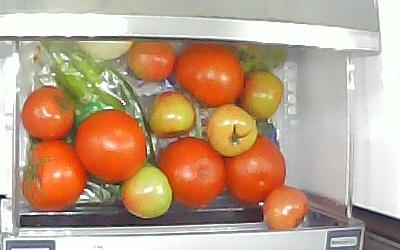tomato: (76, 108, 147, 184), (159, 138, 227, 207), (21, 140, 86, 212), (224, 133, 286, 206), (176, 43, 244, 106), (22, 86, 76, 141), (206, 104, 260, 157), (120, 165, 172, 218), (149, 89, 195, 137), (263, 185, 310, 230), (126, 41, 177, 82), (242, 71, 285, 118)
